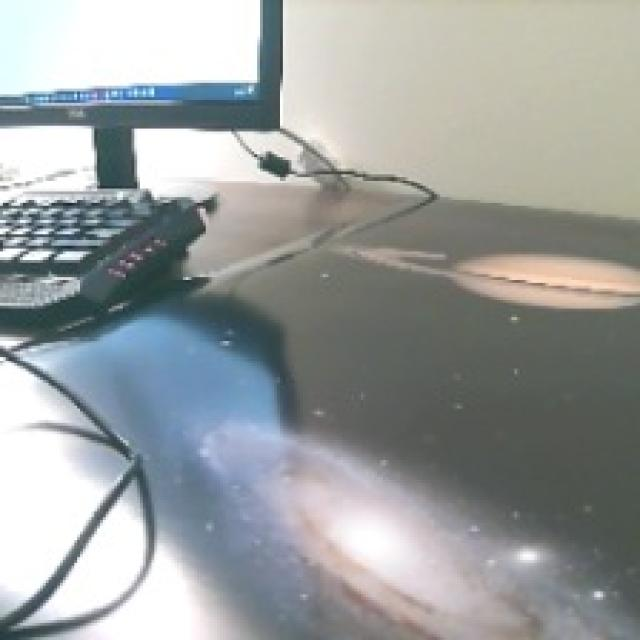Galaxy: (201, 414, 640, 640)
Saturn: (332, 243, 640, 316)
